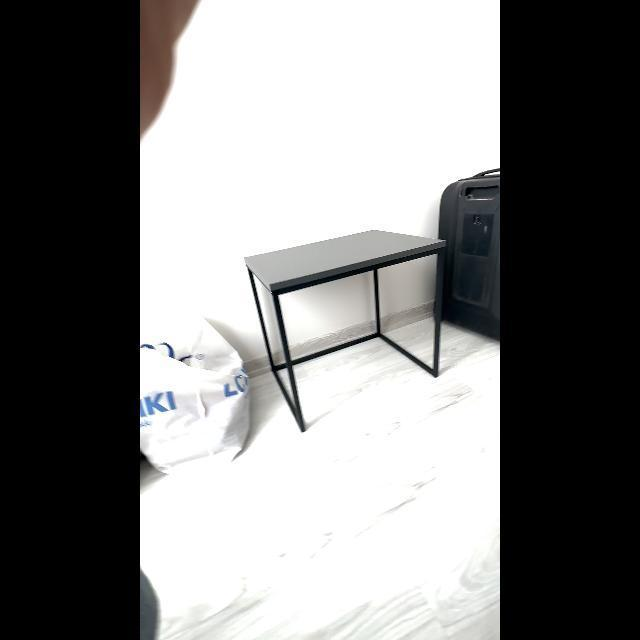coffee table: (239, 222, 453, 418)
